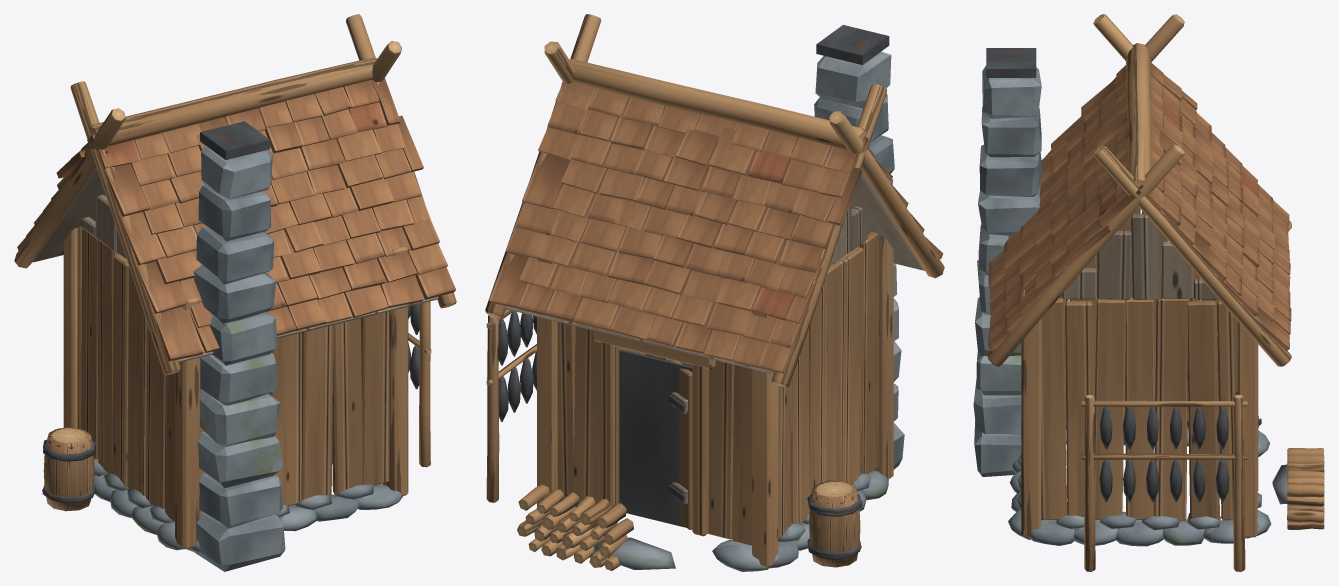
File: bw_smokehouse.fbx
3 renders of one model, left to right at view 1: azimuth 30°, elevation 25°; view 2: azimuth 150°, elevation 25°; view 3: azimuth 270°, elevation 25°, orthographic. The views are drawn at different scales.
Parts seen in each view (by area): view 1: bw_smokehouse; view 2: bw_smokehouse; view 3: bw_smokehouse.
Boxes of the visible parts, x1,y1,x2,y2 form: bw_smokehouse: (14,14,456,571); bw_smokehouse: (485,14,944,571); bw_smokehouse: (973,14,1324,571).
Bounding box in the file's own units: 2.24 × 2.75 × 2.11.
